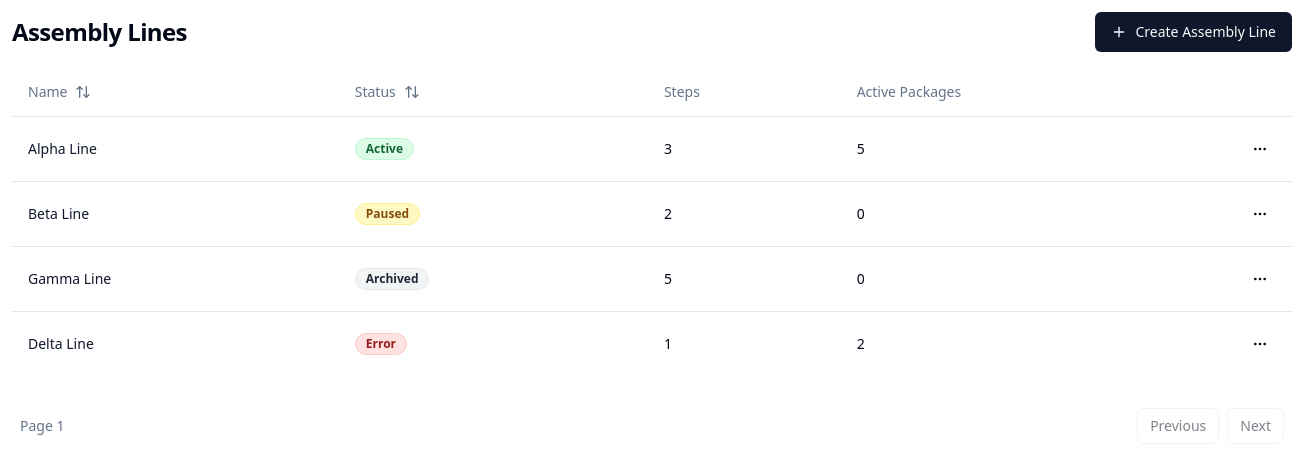
Test: AssemblyLineListPage › Actions dropdown › does not show Pause/Resume/Archive for archived lines
Check: the link "Gamma Line" is shown, box [28, 268, 111, 288]
What coordinates should you click on to do the following:
click the button named "Open actions for" in the row of "Gamma Line"
I would click on:
 (1260, 278)
Its box is [1244, 262, 1276, 294].
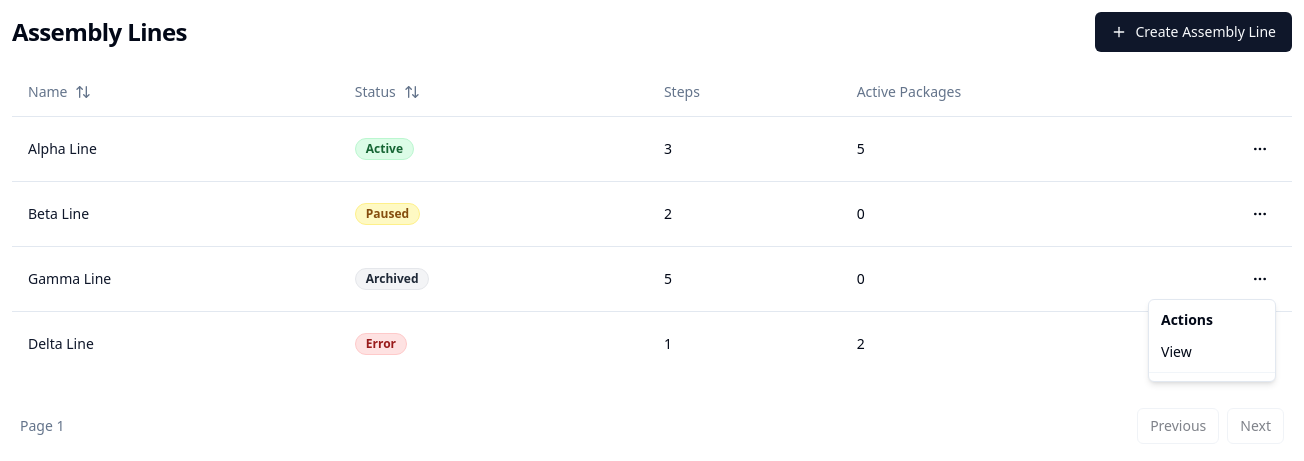
Check: the menu item "View" is shown, box [1161, 342, 1192, 361]
